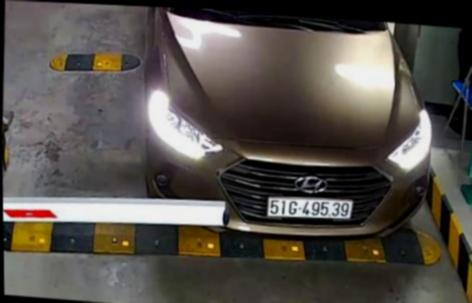License_Plate: (262, 183, 355, 228)
